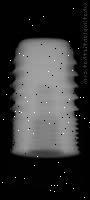Sterngold: (11, 34, 80, 160)
